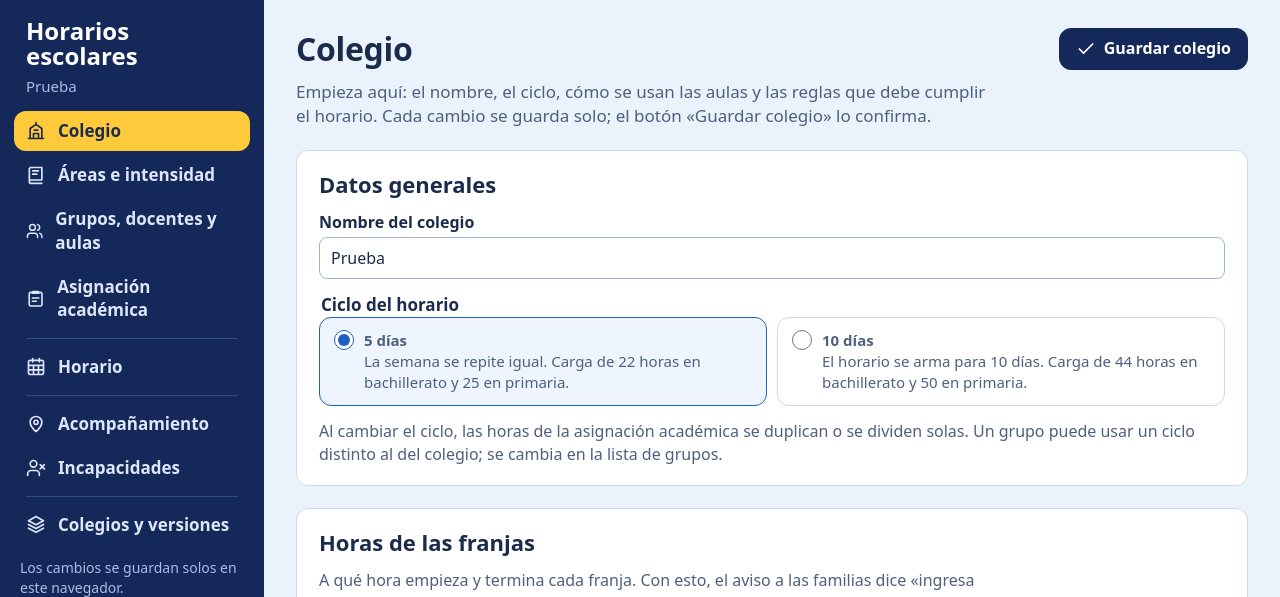
versiones del horario › crea una versión desde el horario y la barra dice cuál está en uso
Click the button "Horario": (132, 367) [14, 347, 250, 387]
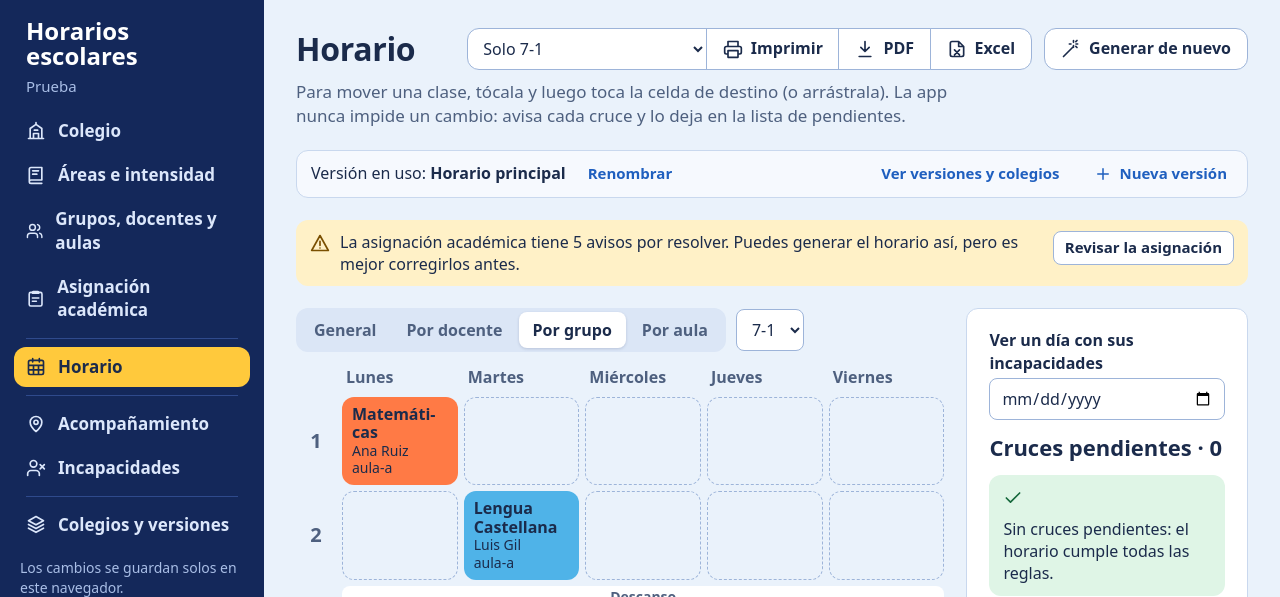
Now the text "Horario principal" is shown, box [430, 162, 566, 184]
Click the button "Nueva versión": (1160, 174) [1082, 157, 1239, 191]
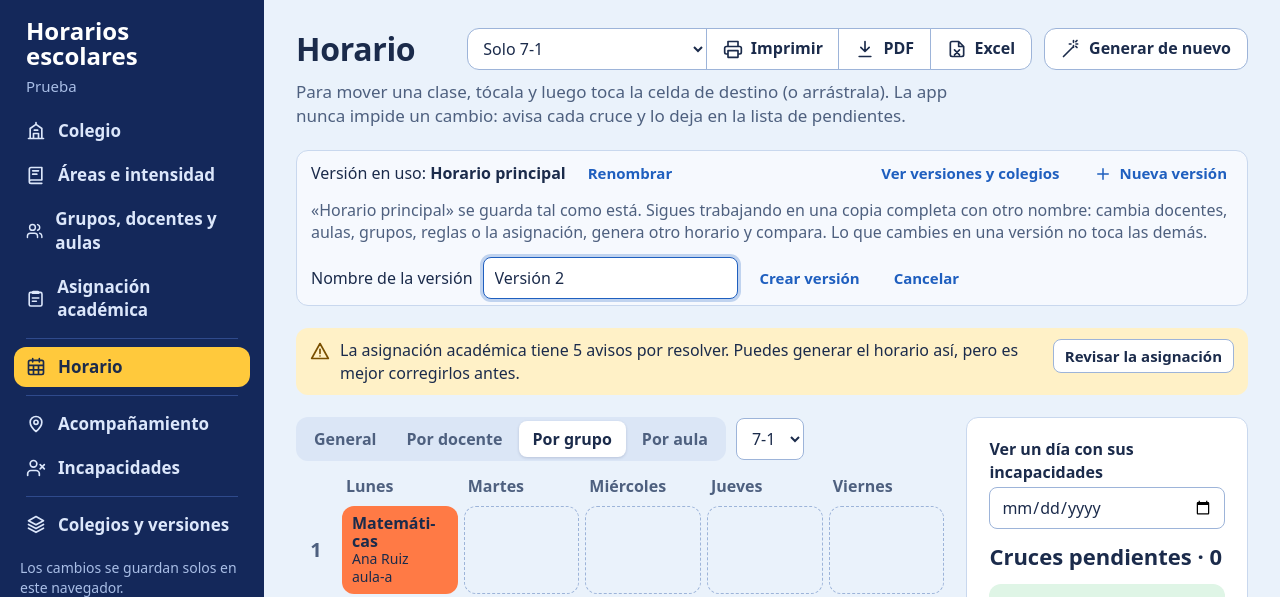
Replace the text in the field labelled "Nombre de la versión" with "Opción B": (610, 278) [482, 257, 738, 299]
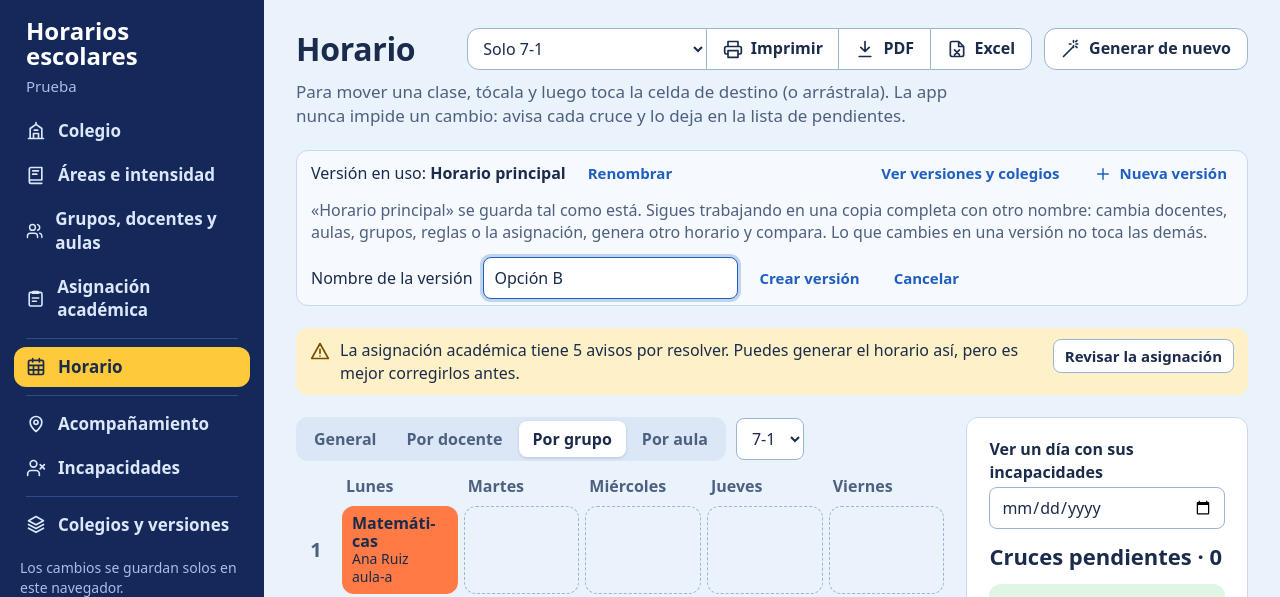
Click the button "Crear versión": (810, 278) [748, 261, 872, 295]
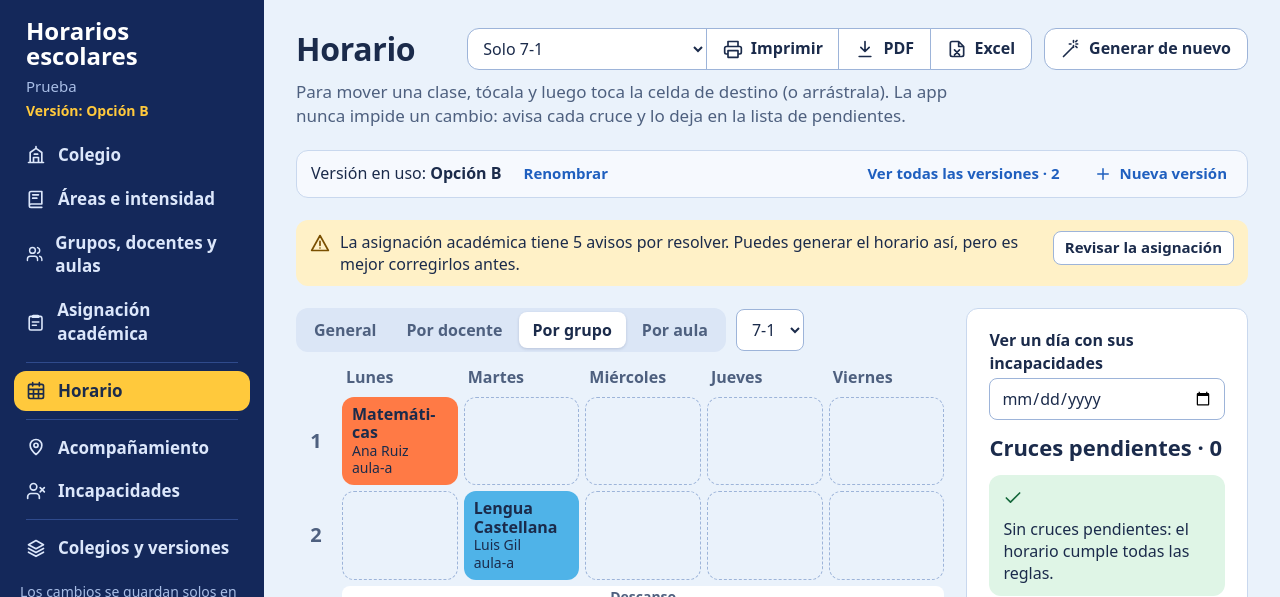
Now the text "Opción B" is shown, box [430, 162, 502, 184]
